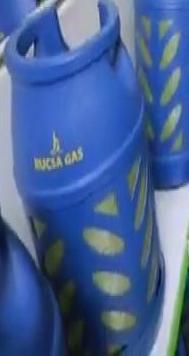cylinder: (1, 0, 189, 356)
